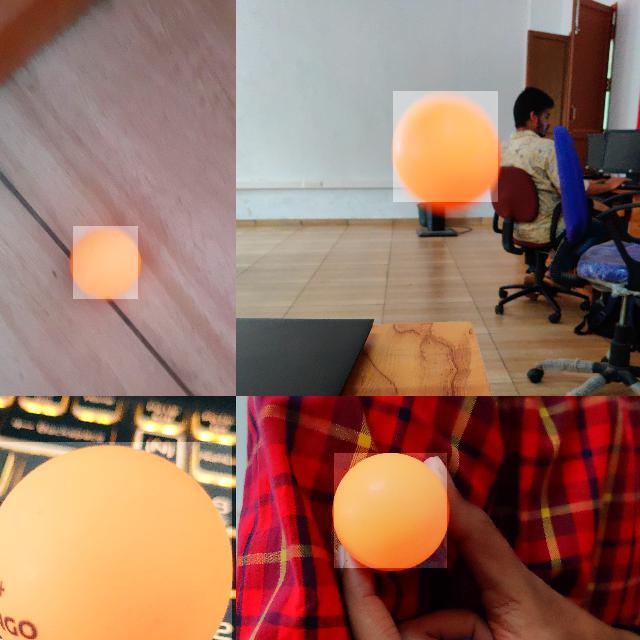ping-pong-ball: (0, 442, 234, 639), (334, 452, 448, 570), (393, 91, 499, 203), (72, 226, 140, 300)
